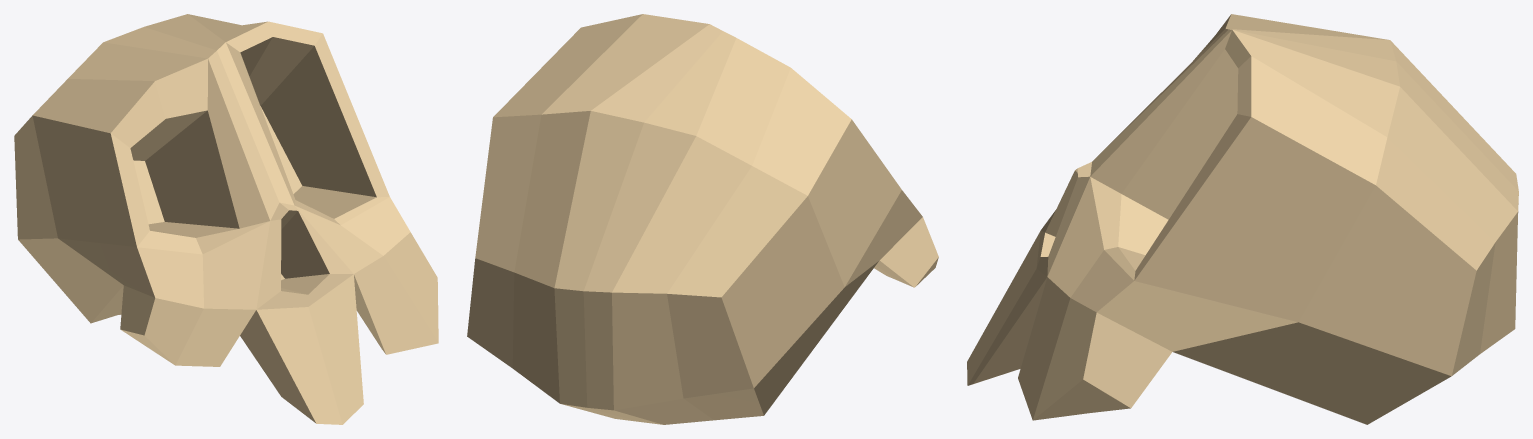
File: Skull_1__0.glb
3 renders of one model, left to right at view 1: azimuth 30°, elevation 25°; view 2: azimuth 150°, elevation 25°; view 3: azimuth 270°, elevation 25°, orthographic. The views are drawn at different scales.
Visible parts, largest first — view 1: Skull_1__0; view 2: Skull_1__0; view 3: Skull_1__0.
Boxes of the visible parts, x1,y1,x2,y2 form: Skull_1__0: [14, 14, 438, 424]; Skull_1__0: [467, 14, 938, 424]; Skull_1__0: [967, 14, 1518, 424].
Size of the model in its own units: 0.1927 by 0.186 by 0.2581.
Materials: 1 (1 with a texture image).
